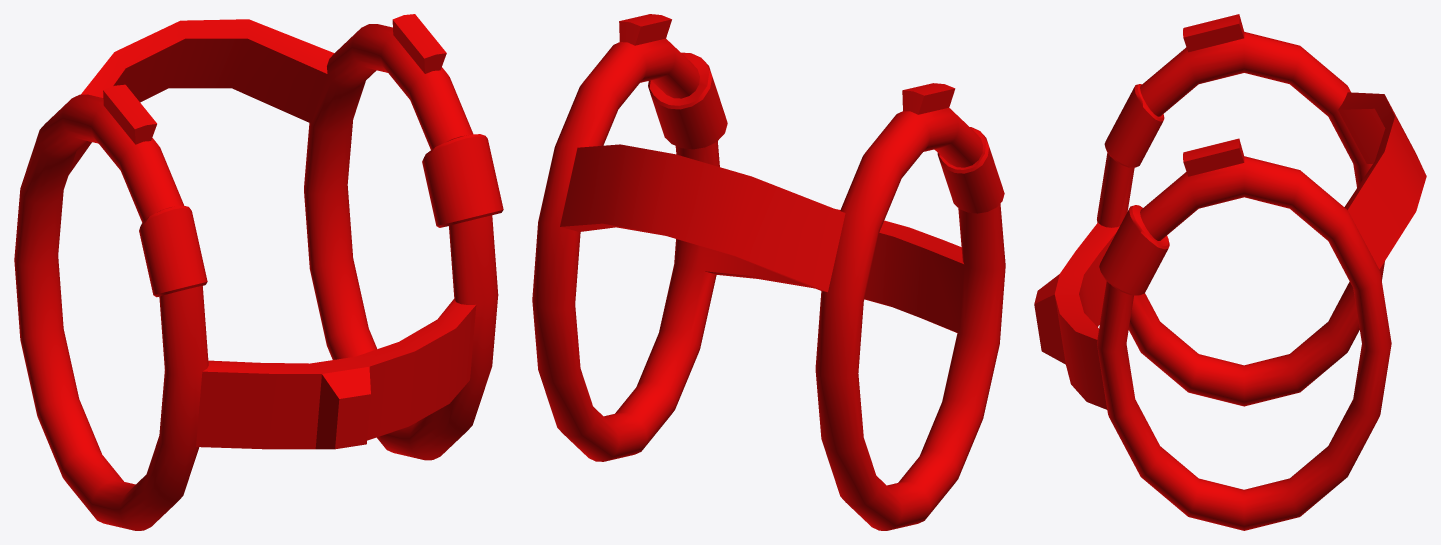
File: shield_rollcage 1.fbx
The picture shows the model from 3 angles, left to right: view 1: azimuth 30°, elevation 25°; view 2: azimuth 150°, elevation 25°; view 3: azimuth 270°, elevation 25°; orthographic projection. The views are drawn at different scales.
Visible parts, largest first — view 1: RollCage; view 2: RollCage; view 3: RollCage.
Boxes of the visible parts, x1,y1,x2,y2 form: RollCage: (14, 14, 503, 530); RollCage: (532, 14, 1005, 530); RollCage: (1034, 14, 1426, 530).
Size of the model in its own units: 41.99 by 51.07 by 46.91.
